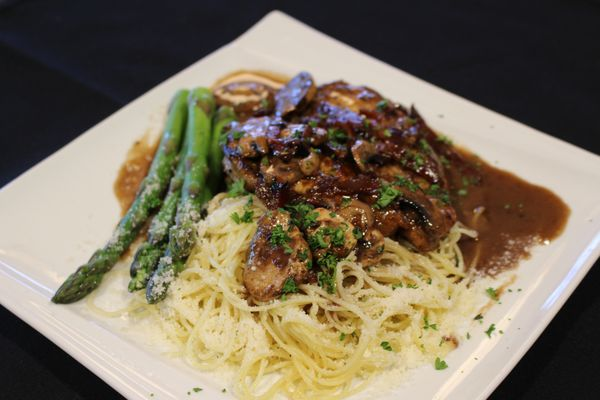curry: (0, 6, 592, 391)
sandwich: (31, 69, 565, 393)
